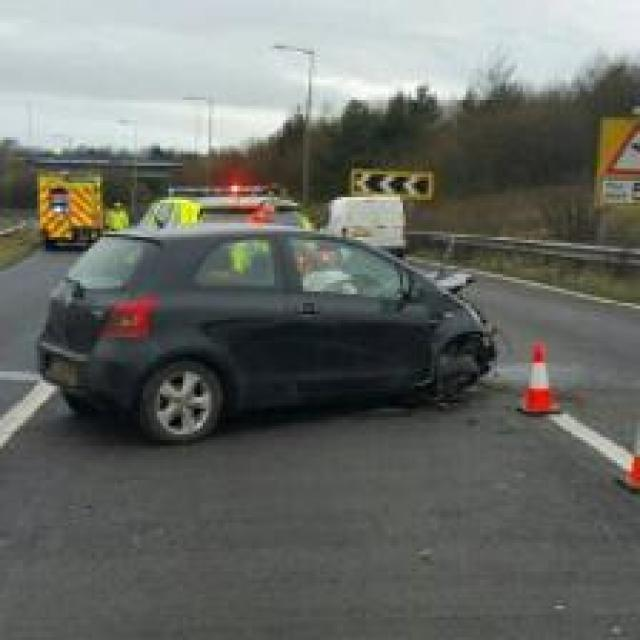damaged: (419, 237, 512, 426)
